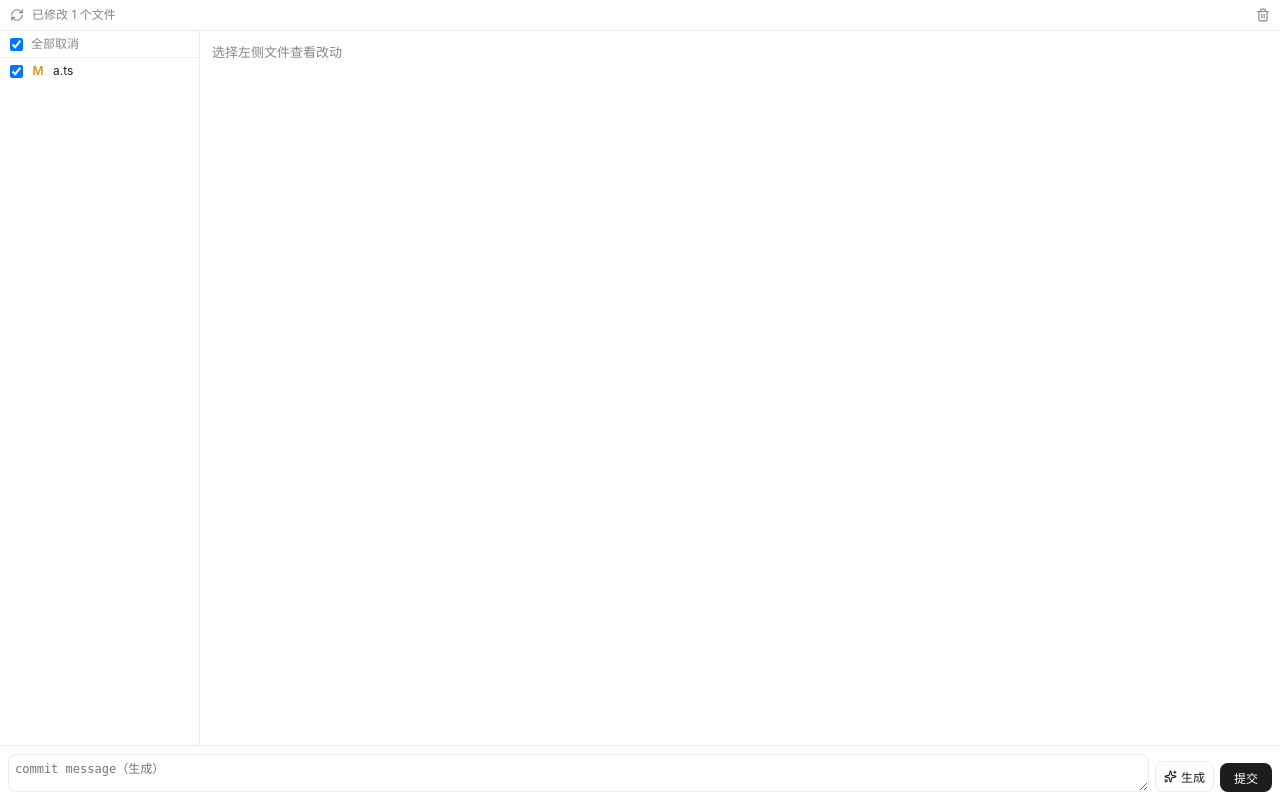
Scenario: ReviewTab › commit 成功后清空 message
Check: the text "a.ts" is shown, box [53,62,73,80]
Type "feat: x" into the text box with placeholder "commit message（生成）". click: (578, 773)
box: [8,754,1149,792]
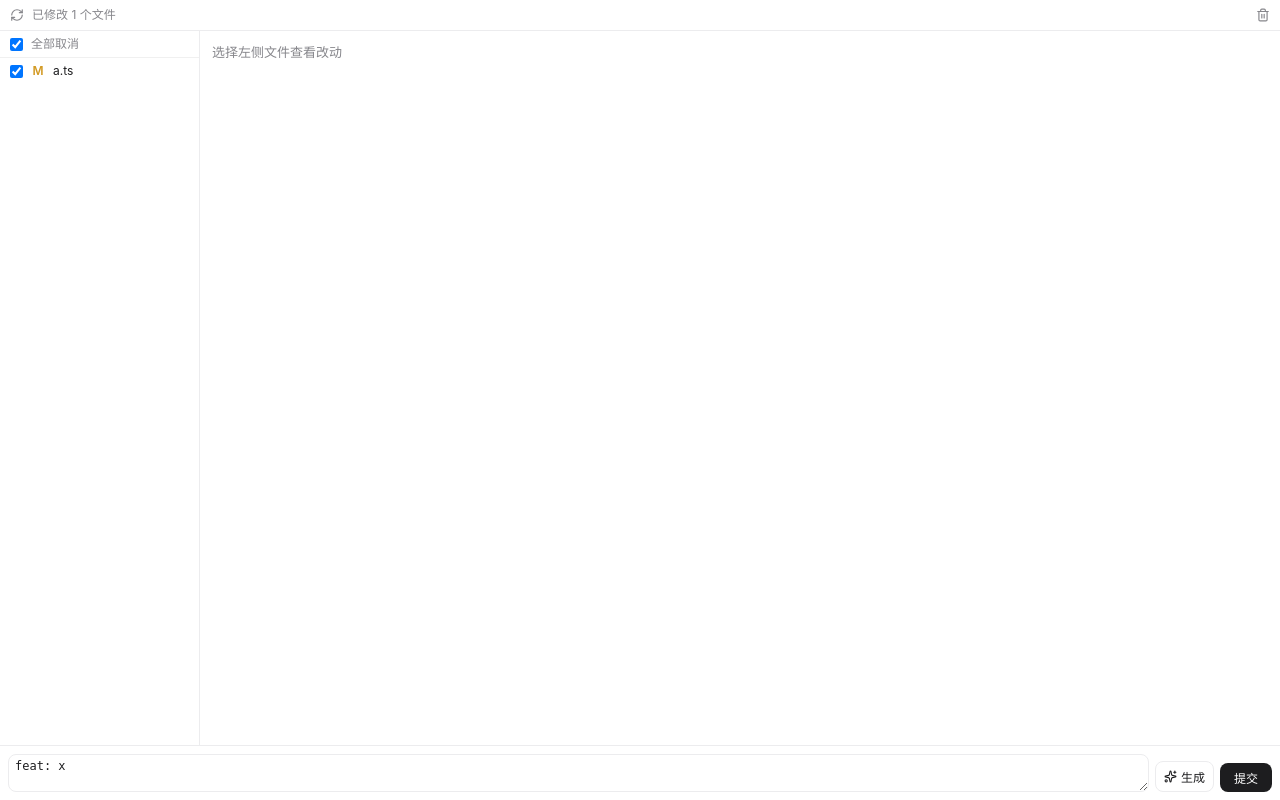
Click the button "提交". click: (1246, 778)
box: [1220,763,1272,792]
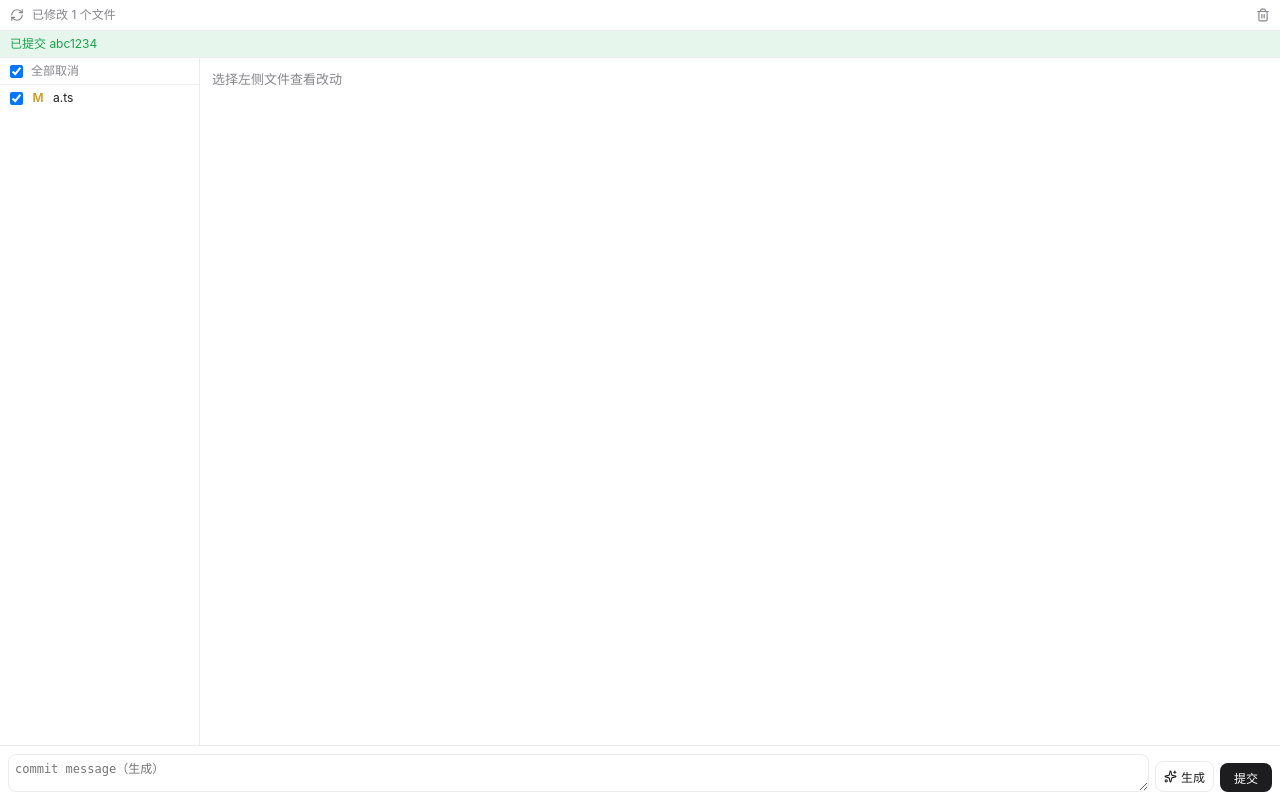
Check: the text box with placeholder "commit message（生成）" is empty, box [8,754,1149,792]
Check: the message "已提交 abc1234" is shown, box [0,31,1279,58]
Check: the message with test id "review-notice" shows "abc1234", box [10,36,97,51]
